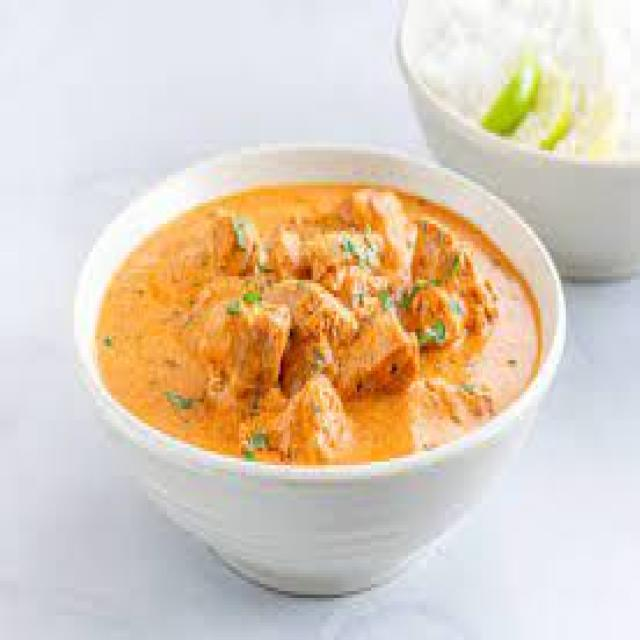Frango: (93, 182, 545, 468)
